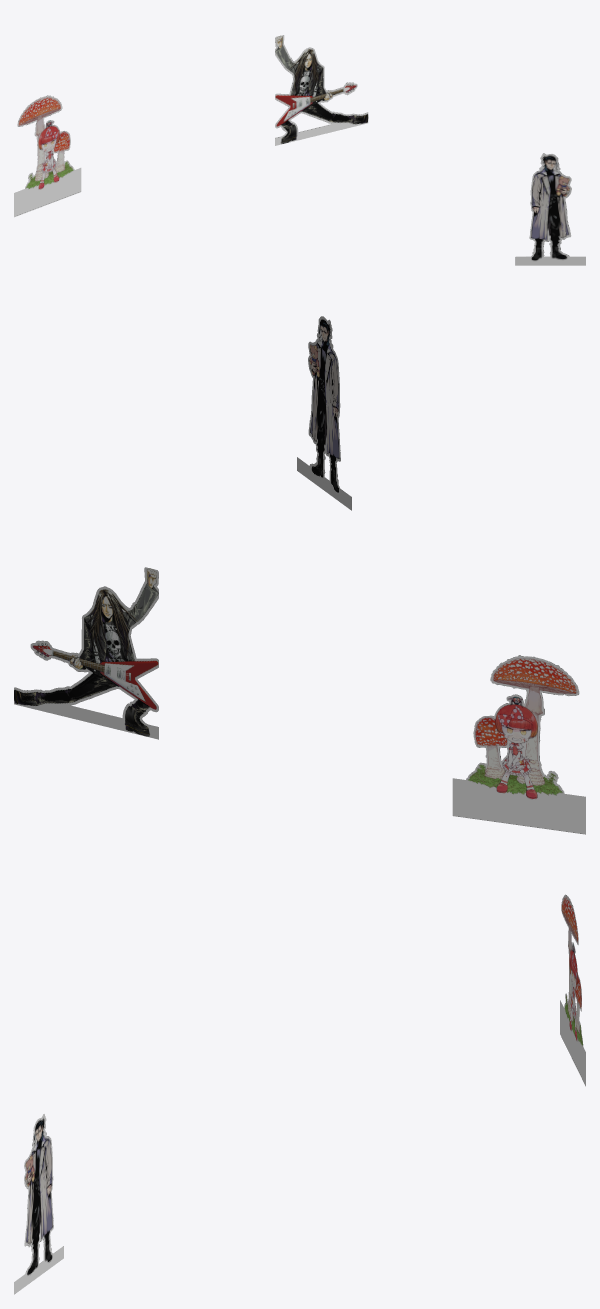
File: MeshBaker (6)-mesh-mesh.fbx
3 renders of one model, top to bottom at view 1: azimuth 30°, elevation 25°; view 2: azimuth 150°, elevation 25°; view 3: azimuth 270°, elevation 25°, orthographic. The views are drawn at different scales.
Visible parts, largest first — view 1: MeshBaker__6__mesh_mesh; view 2: MeshBaker__6__mesh_mesh; view 3: MeshBaker__6__mesh_mesh.
Part boxes in pixels (x1=…): MeshBaker__6__mesh_mesh: x1=14, y1=35, x2=585, y2=265; MeshBaker__6__mesh_mesh: x1=14, y1=316, x2=585, y2=834; MeshBaker__6__mesh_mesh: x1=14, y1=894, x2=585, y2=1294.
Size of the model in its own units: 620 by 189 by 573.
